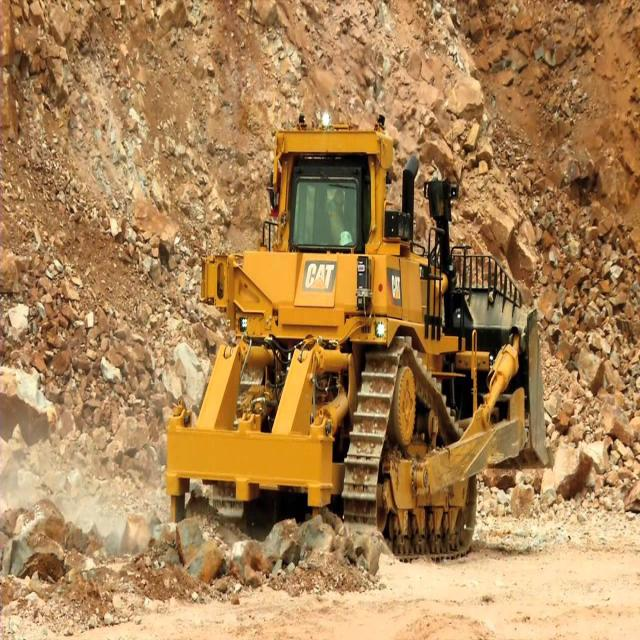buldozerpayloadergrader: (243, 95, 635, 543)
dump_truck: (92, 259, 310, 544)
